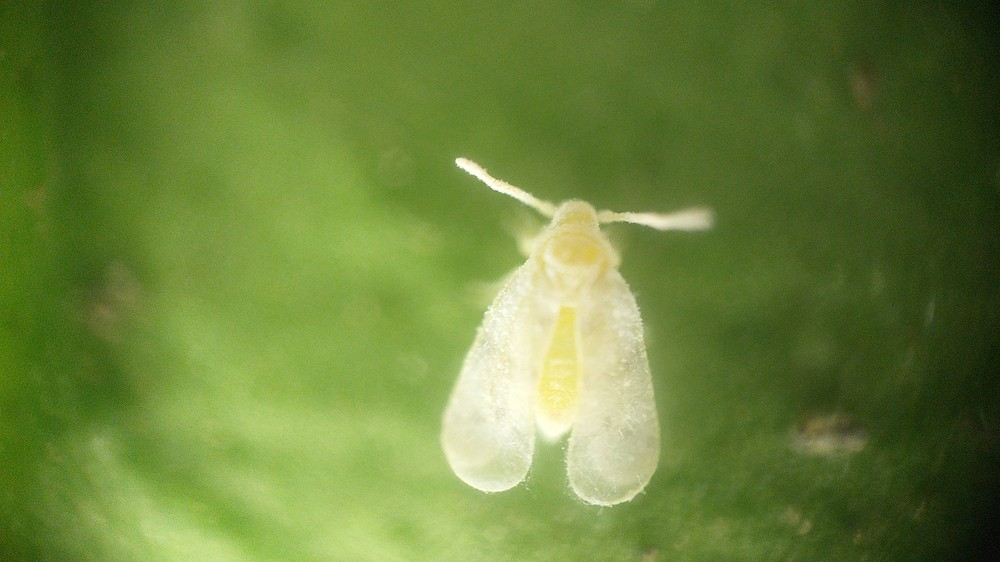Mosca Blanca: (409, 146, 722, 529)
